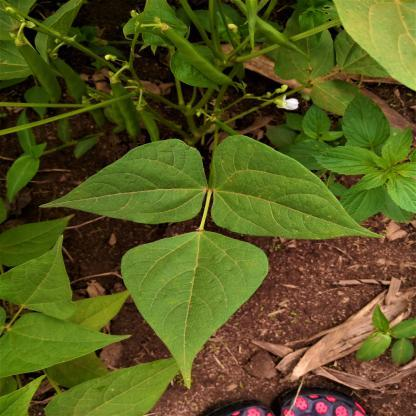Beans_Rust: (120, 233, 271, 386), (207, 130, 364, 240), (36, 139, 206, 222)
